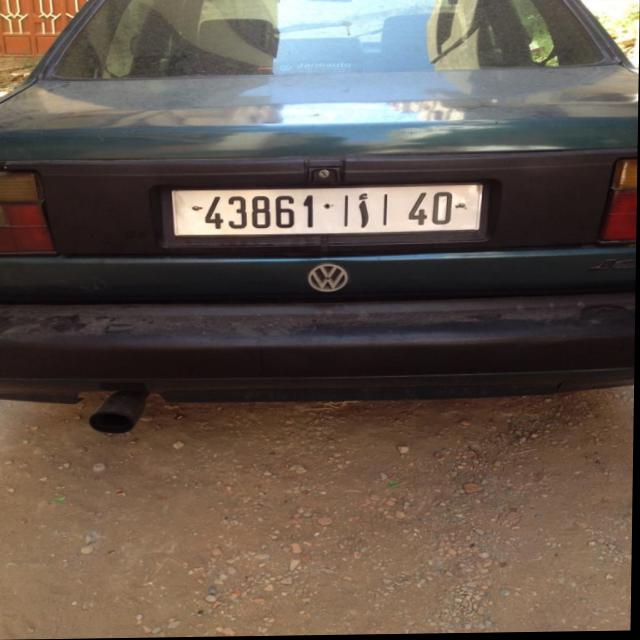License-Plate: (173, 185, 483, 237)
